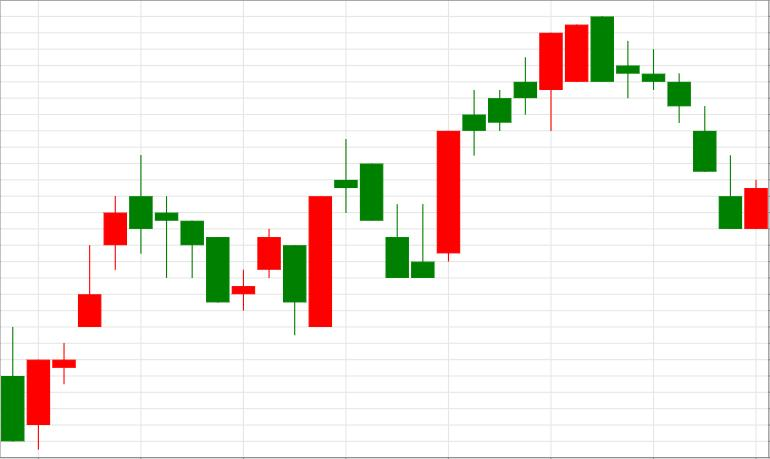bearish_engulfing_fall: (438, 17, 614, 262)
